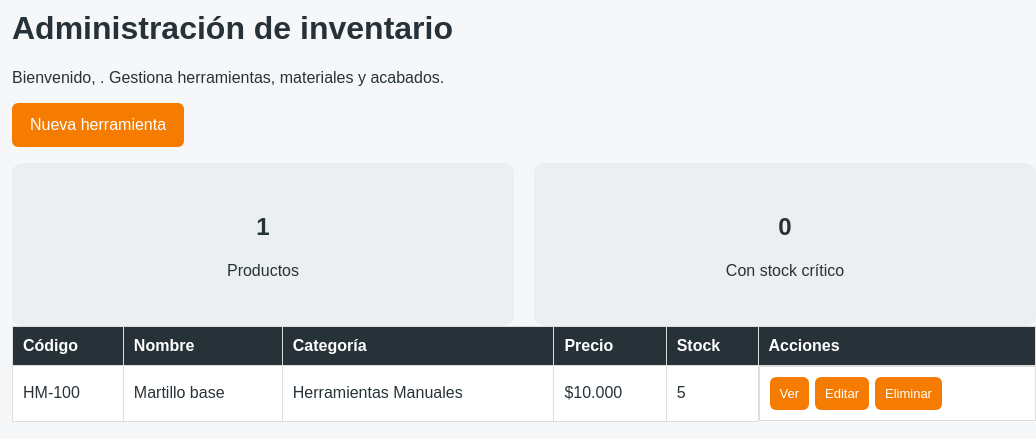
AdminPage eliminación de productos › muestra éxito y quita la fila cuando el backend confirma
Expected: the text "Martillo base" is shown, 123,365 -> 282,421
Click the button "Eliminar" at (908, 394), box 875,377 -> 942,410
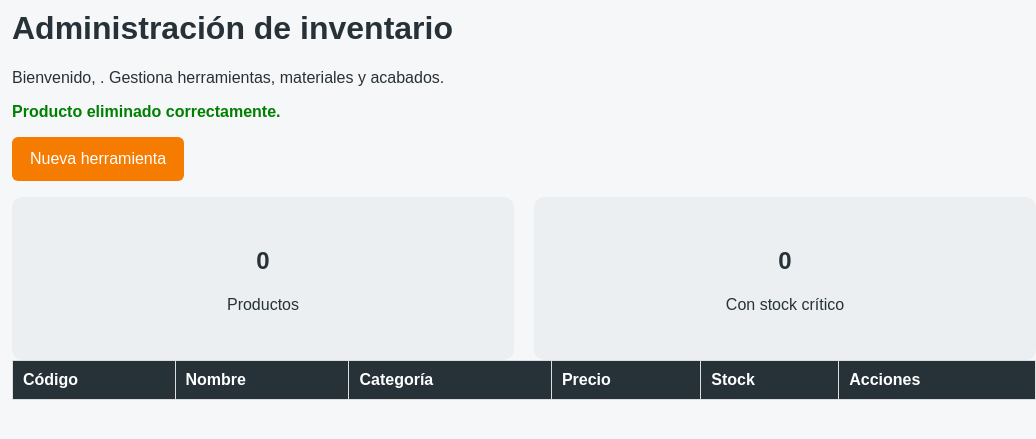
Result: the text "Producto eliminado correctamente." is shown at 12,103 -> 280,120
Result: the text "Martillo base" is gone
